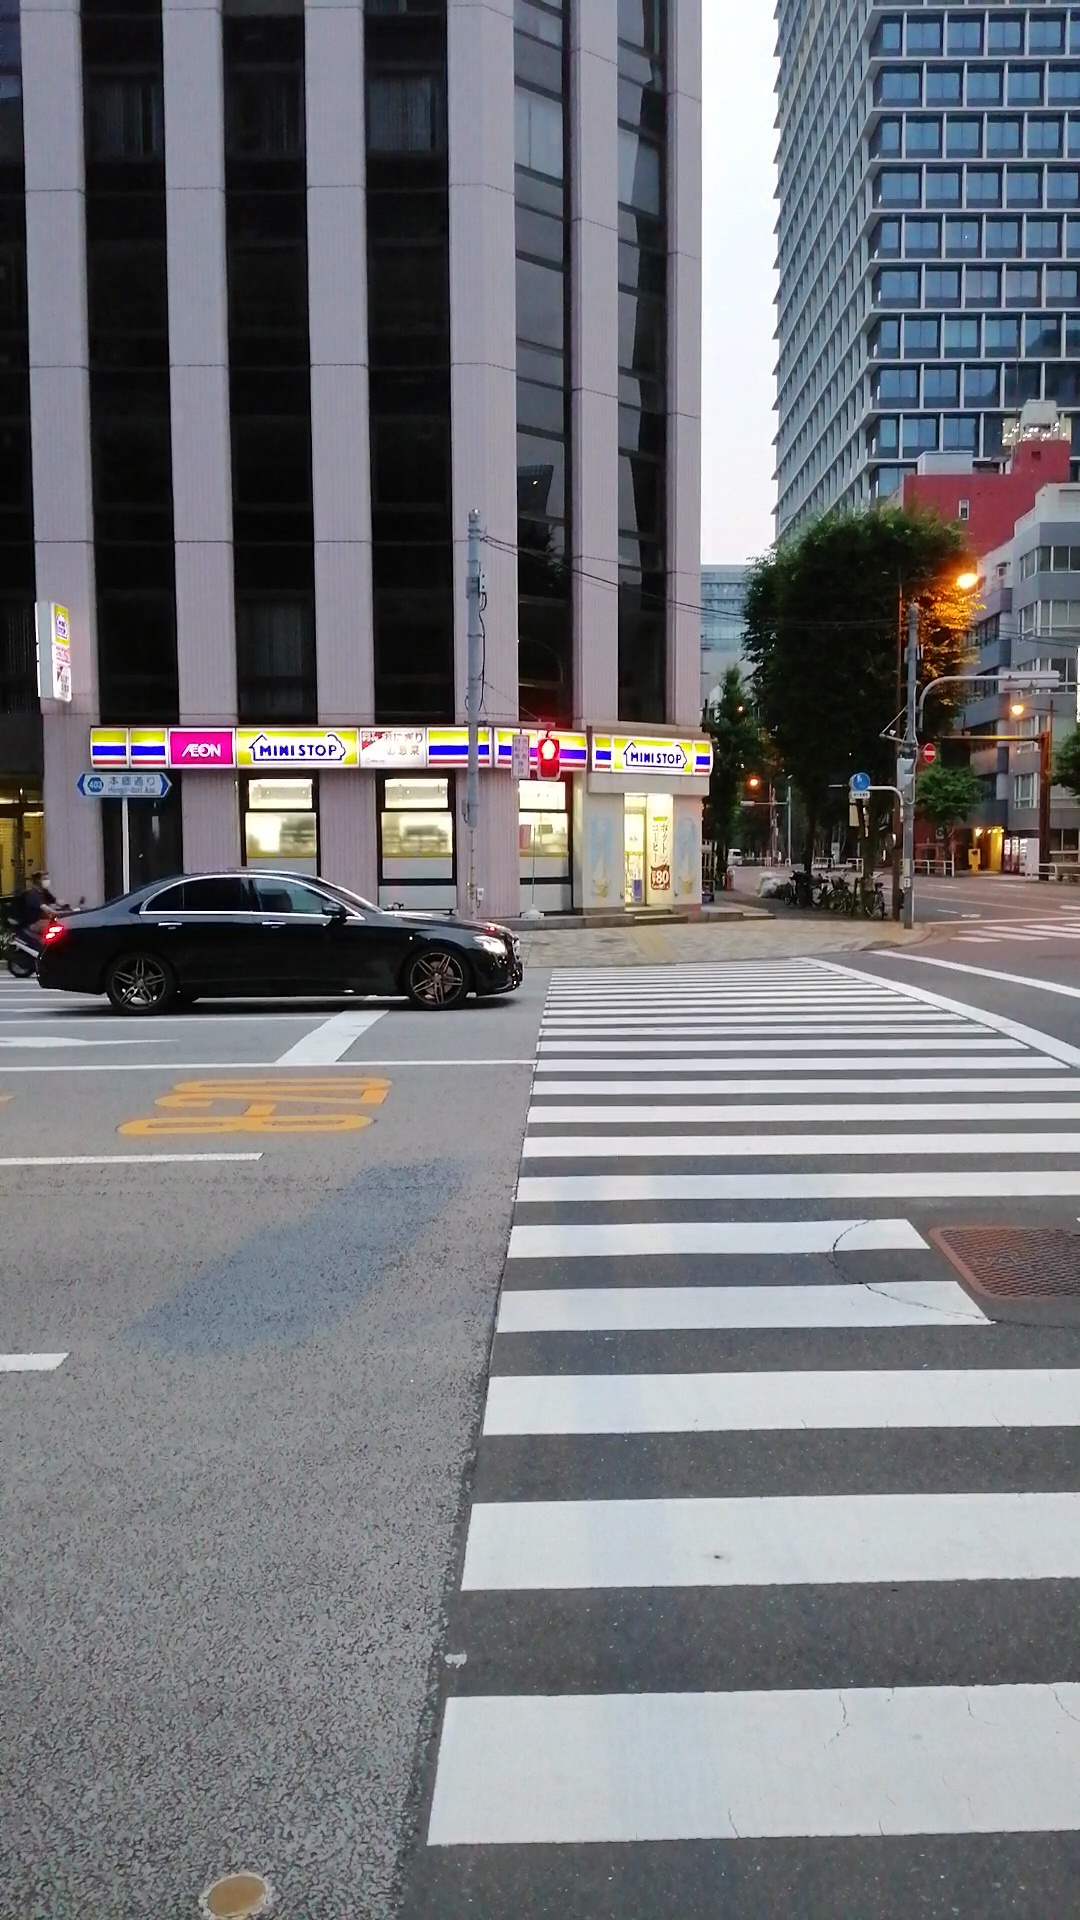red: (535, 737, 560, 779)
